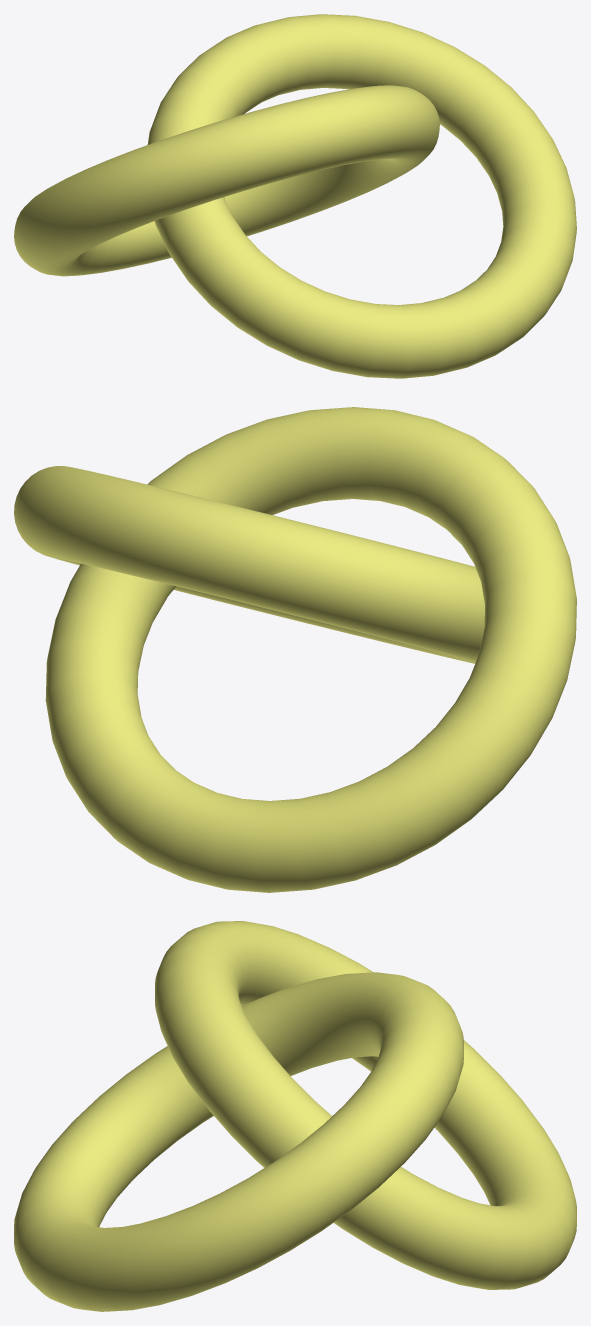
The model's file is ring.fbx.
The picture shows the model from 3 angles, top to bottom: view 1: azimuth 30°, elevation 25°; view 2: azimuth 150°, elevation 25°; view 3: azimuth 270°, elevation 25°; orthographic projection. The views are drawn at different scales.
Visible parts, largest first — view 1: ring; view 2: ring; view 3: ring.
Boxes of the visible parts, left/top/right/bottom form: ring: left=14, top=14, right=576, bottom=378; ring: left=14, top=407, right=576, bottom=892; ring: left=14, top=921, right=576, bottom=1311.
Bounding box in the file's own units: 0.1174 × 0.0639 × 0.109.
